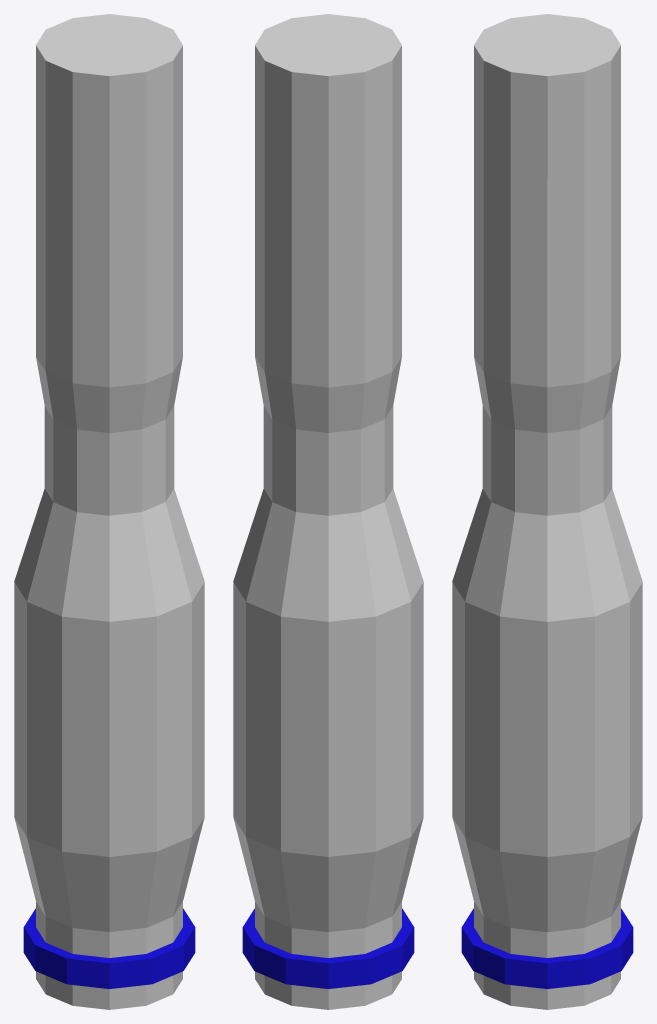
Rendered from Tank00.gltf.
3 views of the same model, side by side, from view 1: azimuth 30°, elevation 25°; view 2: azimuth 150°, elevation 25°; view 3: azimuth 270°, elevation 25° (orthographic).
Parts seen in each view (by area): view 1: Tank00; view 2: Tank00; view 3: Tank00.
Part boxes in pixels (left/top/right/bottom): Tank00: left=14, top=14, right=204, bottom=1009; Tank00: left=233, top=14, right=423, bottom=1009; Tank00: left=452, top=14, right=642, bottom=1009.
Bounding box in the file's own units: 0.6475 × 3.5 × 0.6475.
